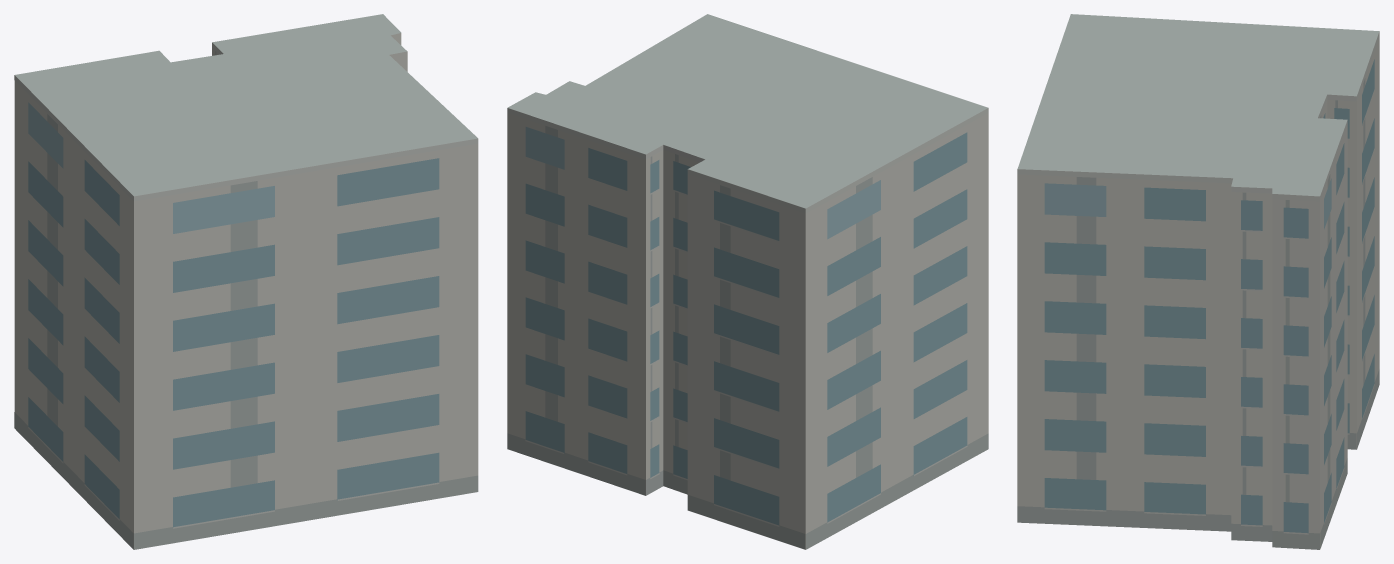
File: survey-upis-32913122.glb
The picture shows the model from 3 angles, left to right: view 1: azimuth 30°, elevation 25°; view 2: azimuth 150°, elevation 25°; view 3: azimuth 270°, elevation 25°; orthographic projection. The views are drawn at different scales.
Visible parts, largest first — view 1: survey-upis-32913122.tmp; view 2: survey-upis-32913122.tmp; view 3: survey-upis-32913122.tmp.
Boxes of the visible parts, bbox=[...] form: survey-upis-32913122.tmp: bbox=[14, 14, 478, 549]; survey-upis-32913122.tmp: bbox=[507, 14, 988, 549]; survey-upis-32913122.tmp: bbox=[1017, 14, 1379, 549].
Size of the model in its own units: 18.05 by 16.3 by 15.14.
